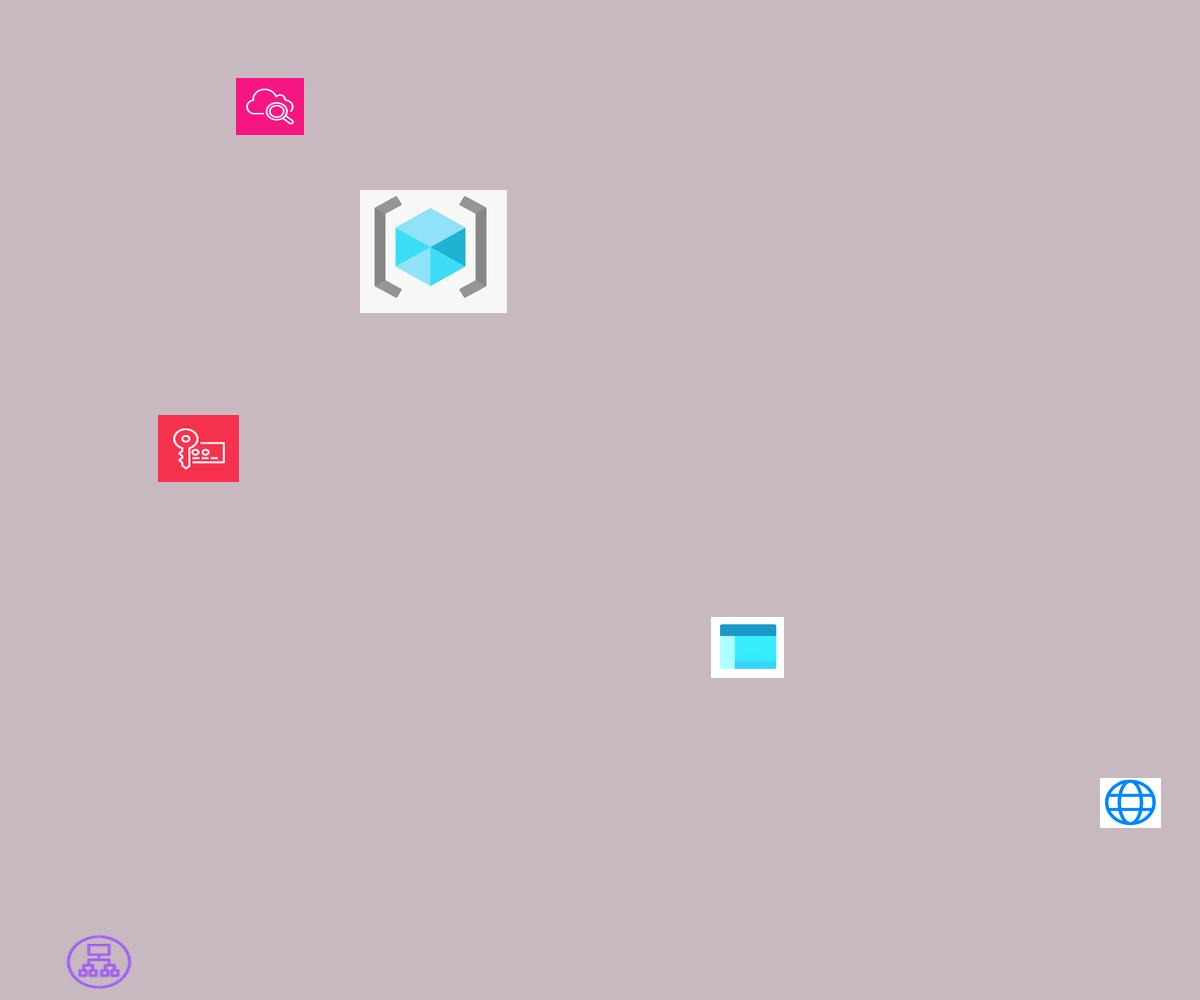AWS-CloudWatch: (236, 78, 304, 135)
AWS-Key-Management-Service: (158, 415, 239, 482)
AWS-Res_Elastic-Load-Balancing_Application-Load-Balancer: (64, 933, 134, 991)
Azure_http: (1100, 778, 1161, 828)
Azure_management-portal: (711, 617, 784, 678)
Azure_resource_group: (360, 190, 507, 313)
